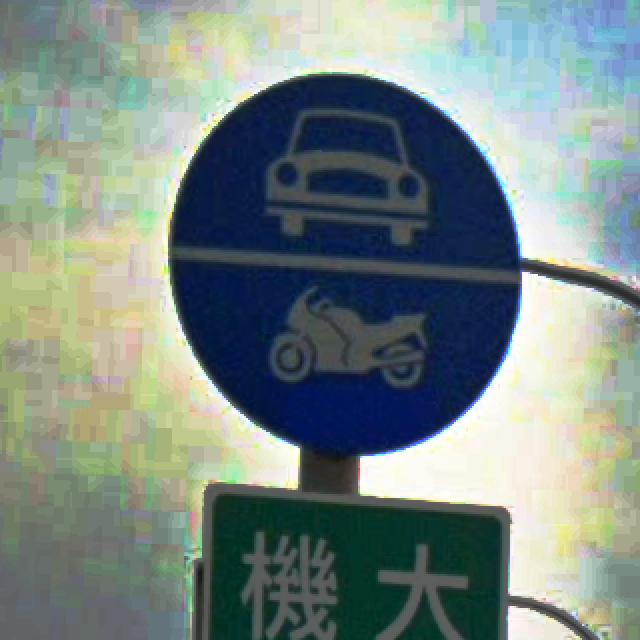carmotorcycle: (168, 76, 520, 454)
